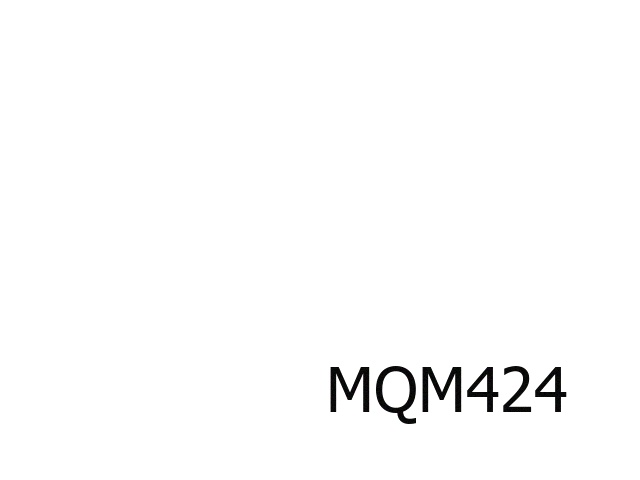OCR_AREA: (322, 362, 572, 428)
